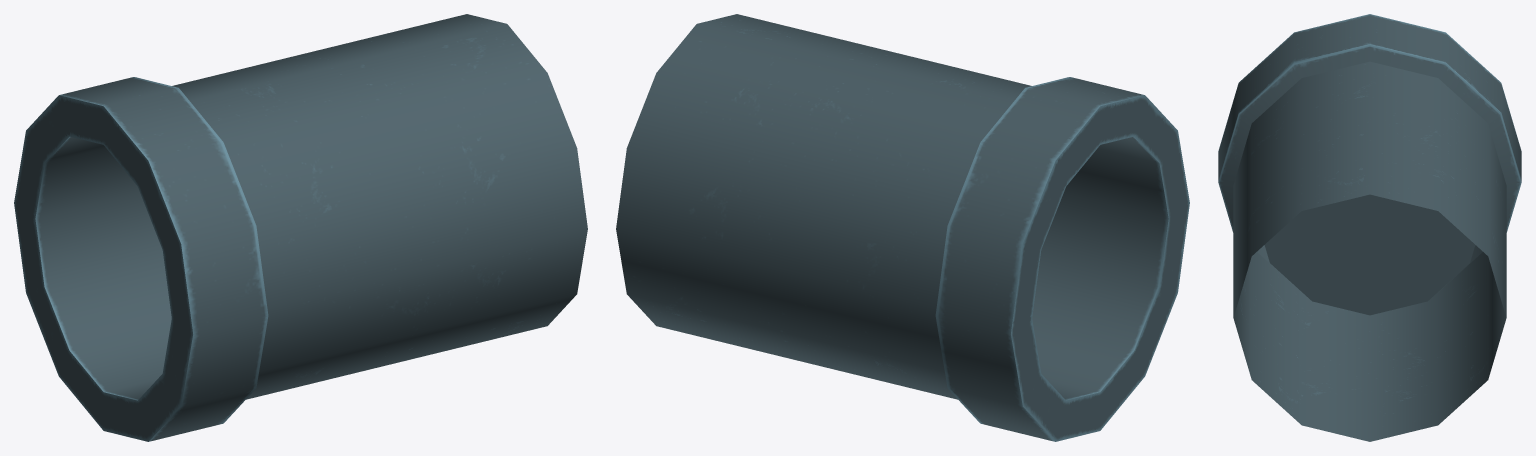
Rendered from Pipe_B.fbx.
3 views of the same model, side by side, from view 1: azimuth 30°, elevation 25°; view 2: azimuth 150°, elevation 25°; view 3: azimuth 270°, elevation 25° (orthographic). The views are drawn at different scales.
Parts seen in each view (by area): view 1: Object019; view 2: Object019; view 3: Object019.
Part boxes in pixels (x1,y1,x2,y2): Object019: [14, 14, 587, 441]; Object019: [616, 14, 1189, 441]; Object019: [1218, 14, 1521, 441].
Size of the model in its own units: 134 by 103 by 103.
